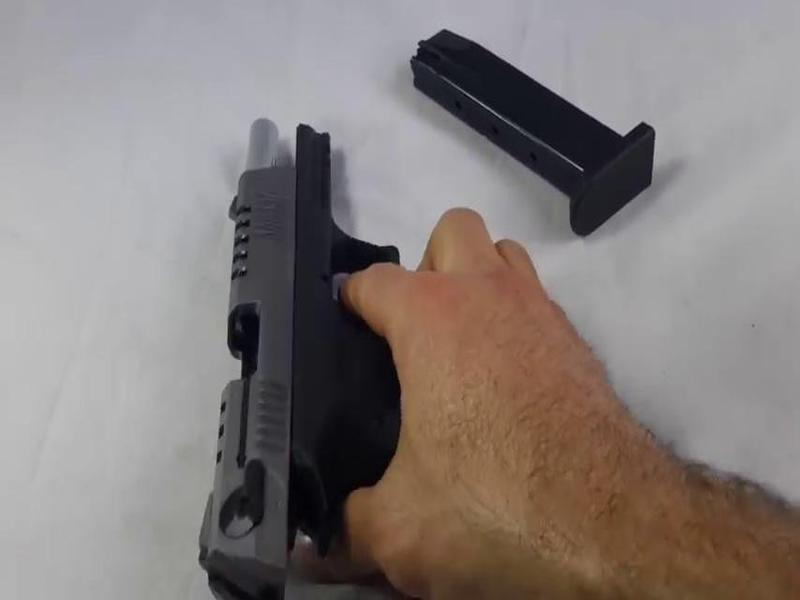Pistola: (171, 86, 446, 599)
